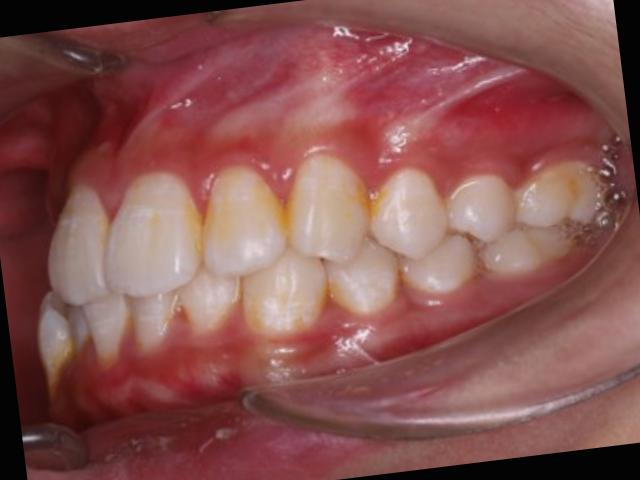canine class I: (222, 125, 410, 360)
molar class III 1/2: (470, 146, 621, 298)
